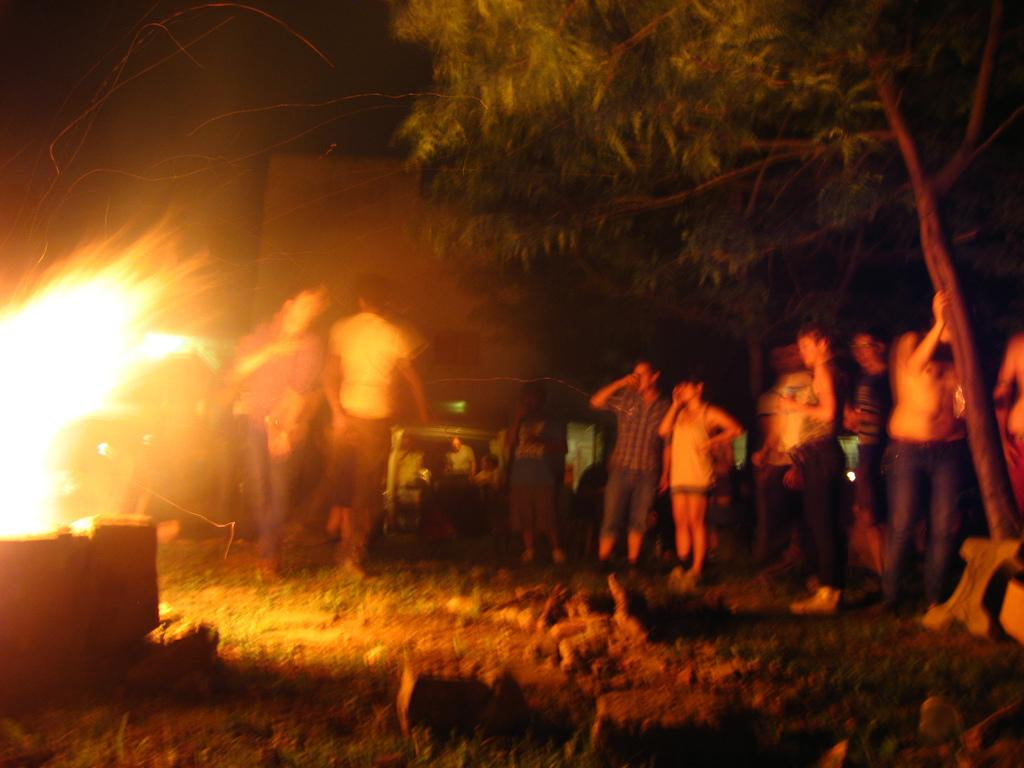fire: (8, 300, 74, 506), (82, 264, 152, 416)
